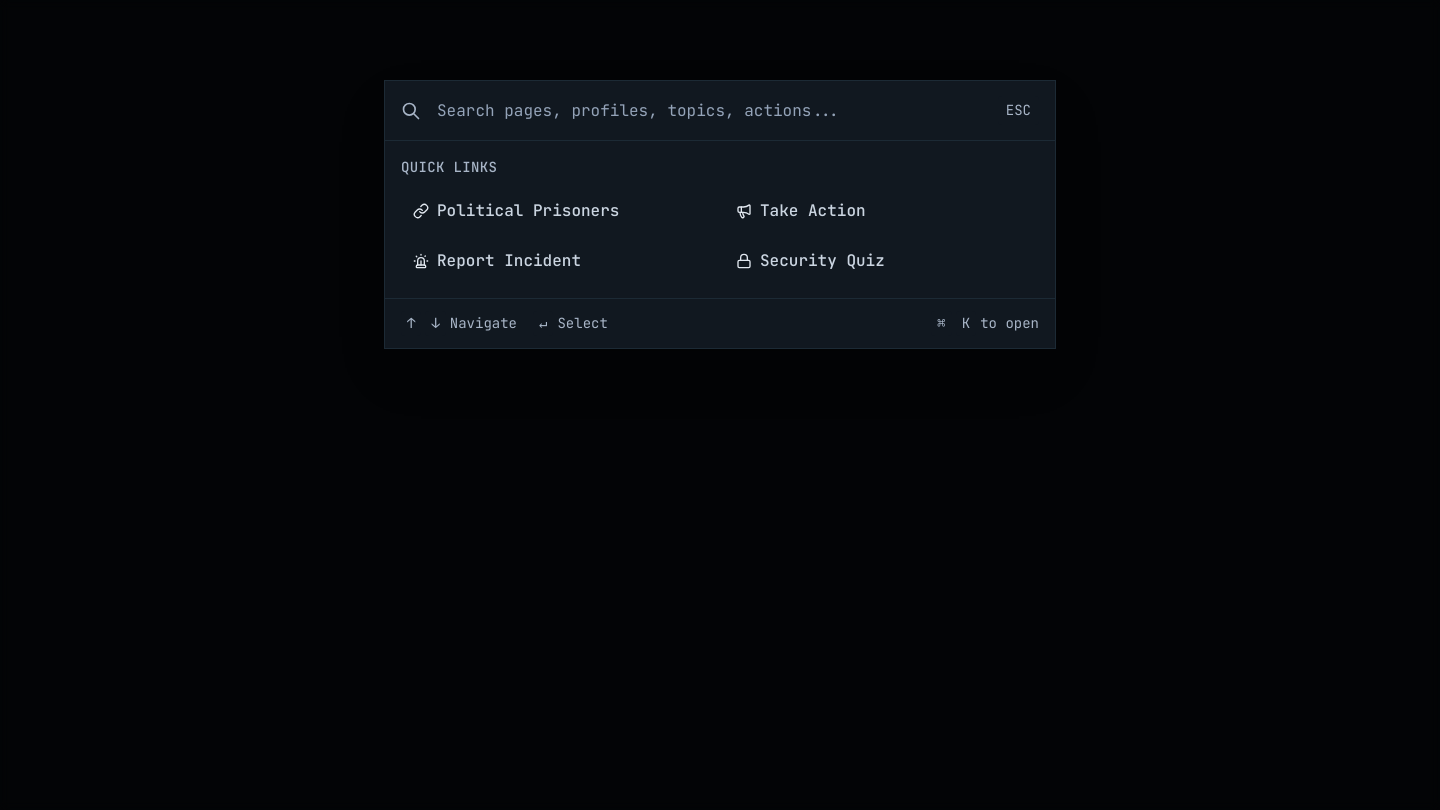
Test: GlobalSearch › shows "No results found" for non-matching query
The image size is (1440, 810).
In the field named "Global search": [709, 111] box [421,81,998,140], type "zzzznonexistent"
Wait 200 ms
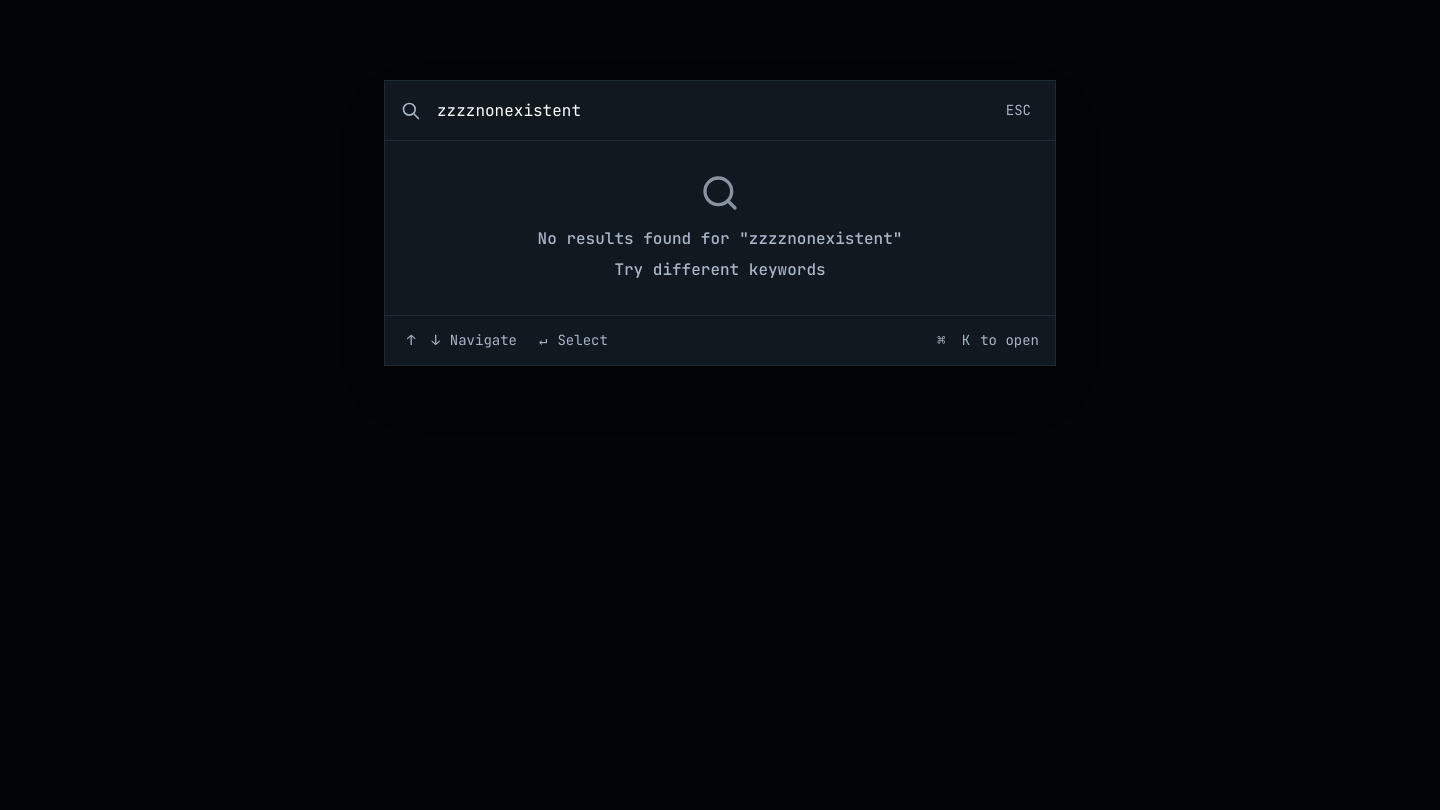
Check: the text "No results found for \"zzzznonexistent\"" is shown, box [538,228,902,249]
